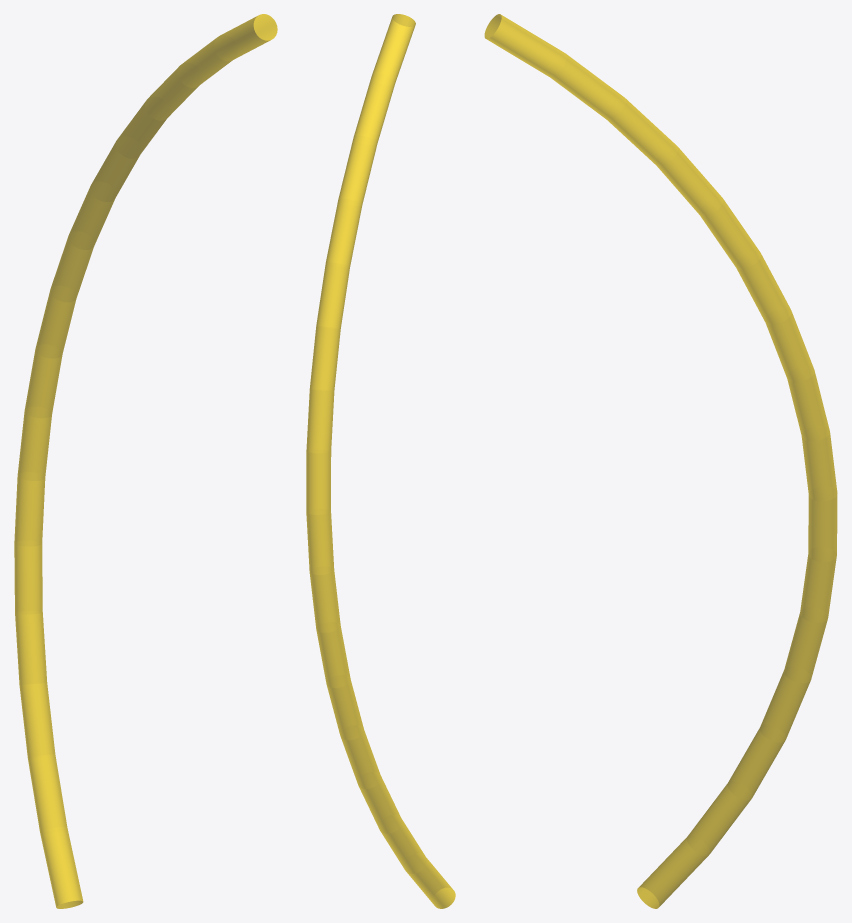
File: Event_402970704_track_65.fbx
3 renders of one model, left to right at view 1: azimuth 30°, elevation 25°; view 2: azimuth 150°, elevation 25°; view 3: azimuth 270°, elevation 25°, orthographic. The views are drawn at different scales.
Visible parts, largest first — view 1: Model; view 2: Model; view 3: Model.
Boxes of the visible parts, box(x1,y1,x2,y2) form: Model: box(14, 14, 277, 908); Model: box(306, 14, 455, 908); Model: box(484, 14, 837, 908).
Bounding box in the file's own units: 0.2394 × 1.46 × 0.4911.
